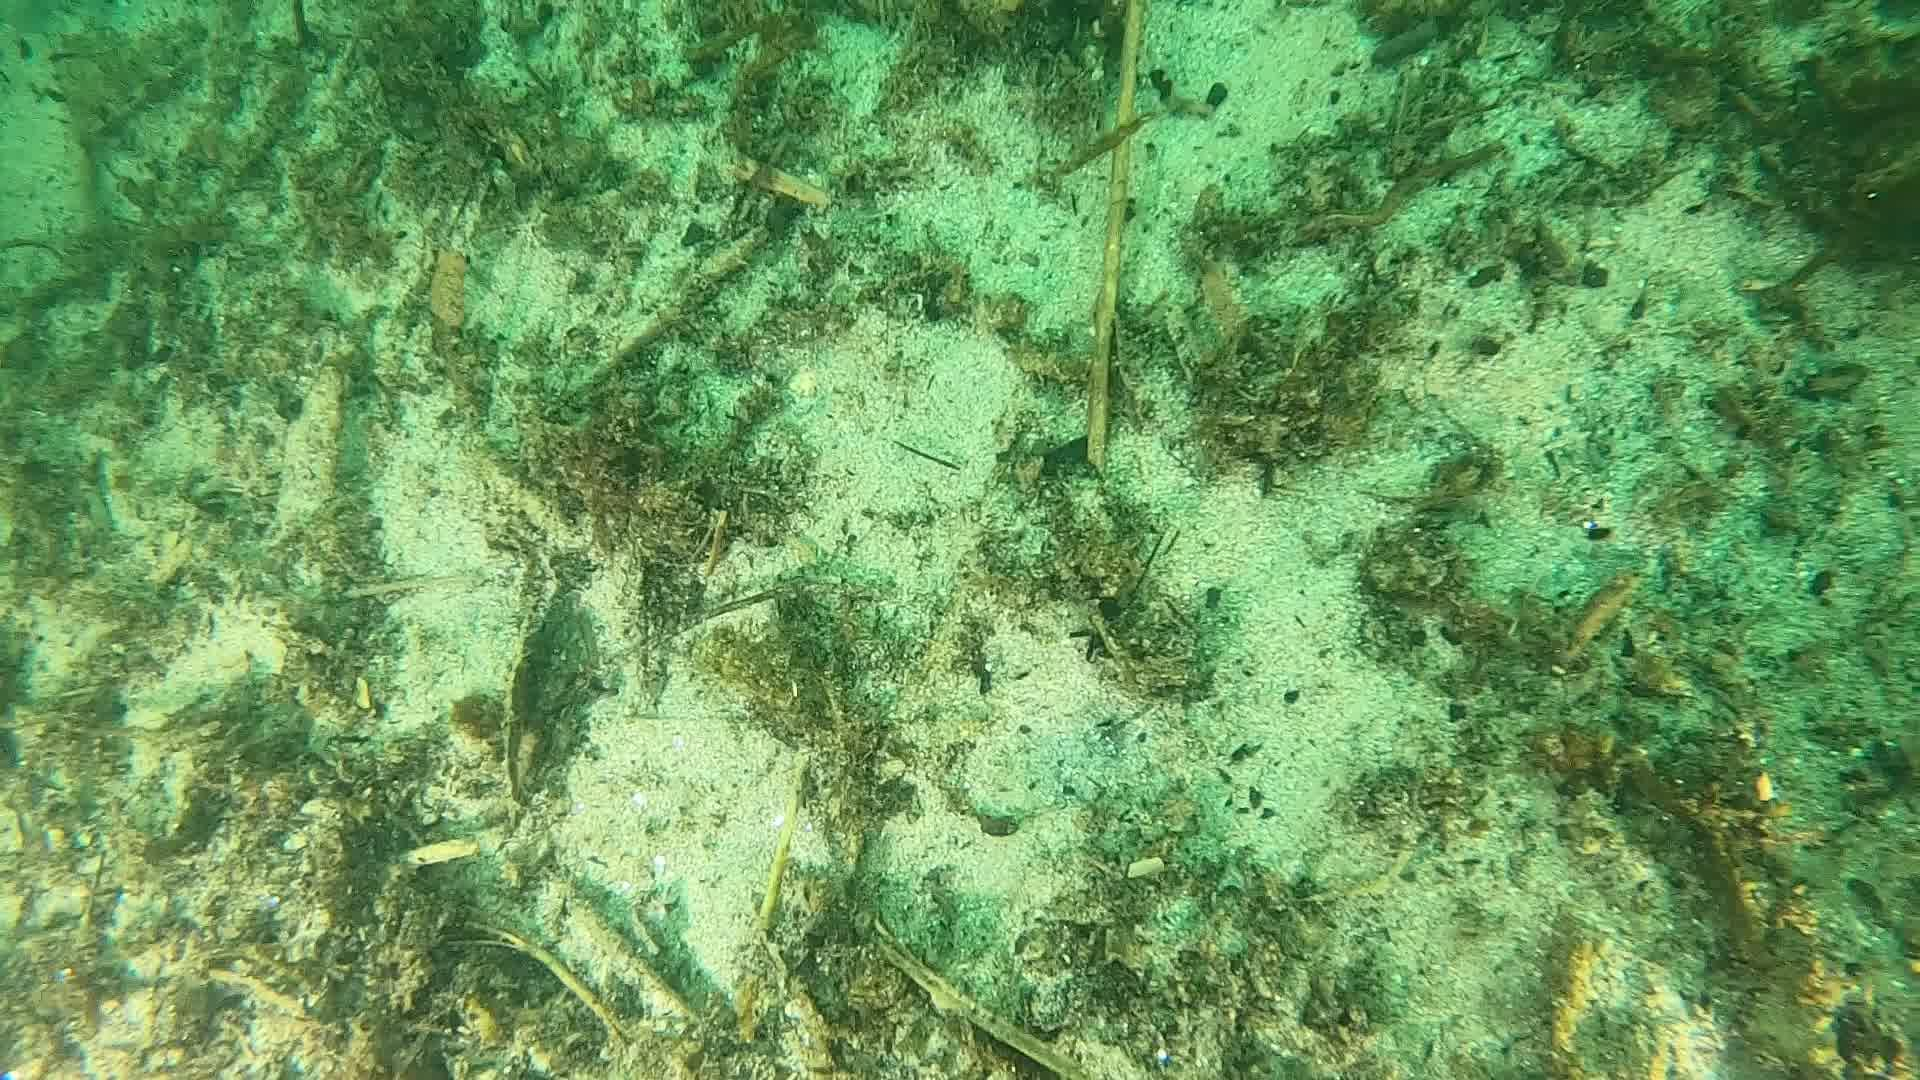wood: (1084, 0, 1150, 469)
